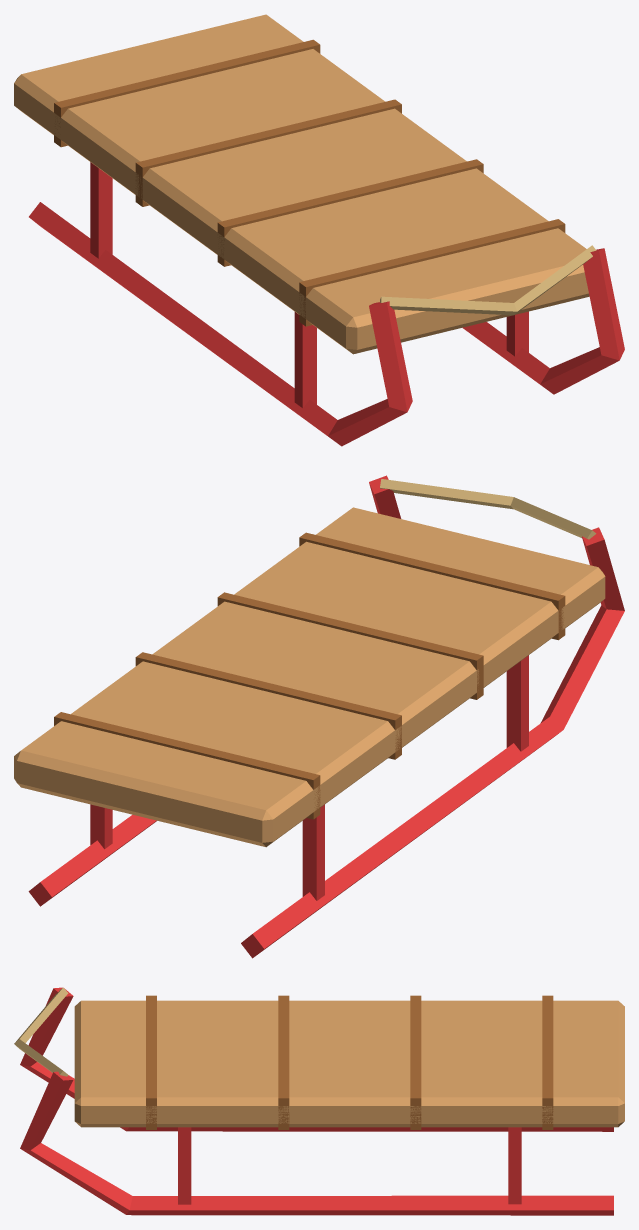
File: Sled.fbx
3 renders of one model, top to bottom at view 1: azimuth 30°, elevation 25°; view 2: azimuth 150°, elevation 25°; view 3: azimuth 270°, elevation 25°, orthographic. The views are drawn at different scales.
Parts seen in each view (by area): view 1: Sled; view 2: Sled; view 3: Sled.
Boxes of the visible parts, x1,y1,x2,y2 form: Sled: (14,14,624,446); Sled: (14,475,624,958); Sled: (14,987,624,1215).
Size of the model in its own units: 2.2 by 1.45 by 5.55.
Materials: 1 (1 with a texture image).
